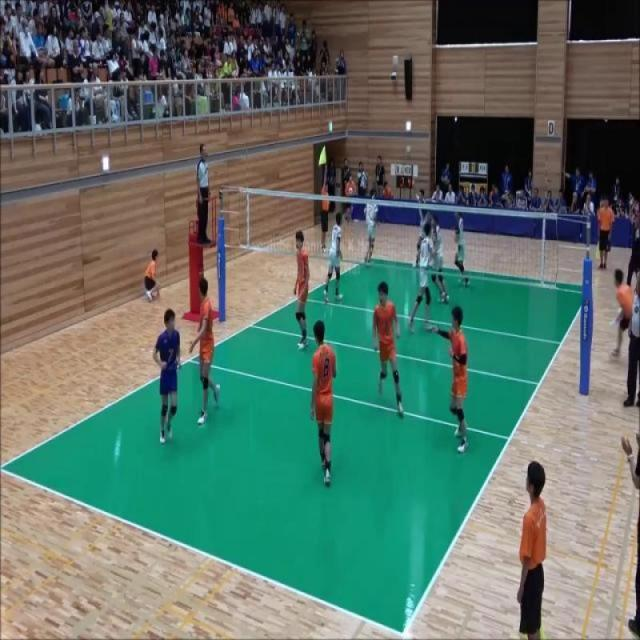volleyball: (348, 187, 353, 194)
